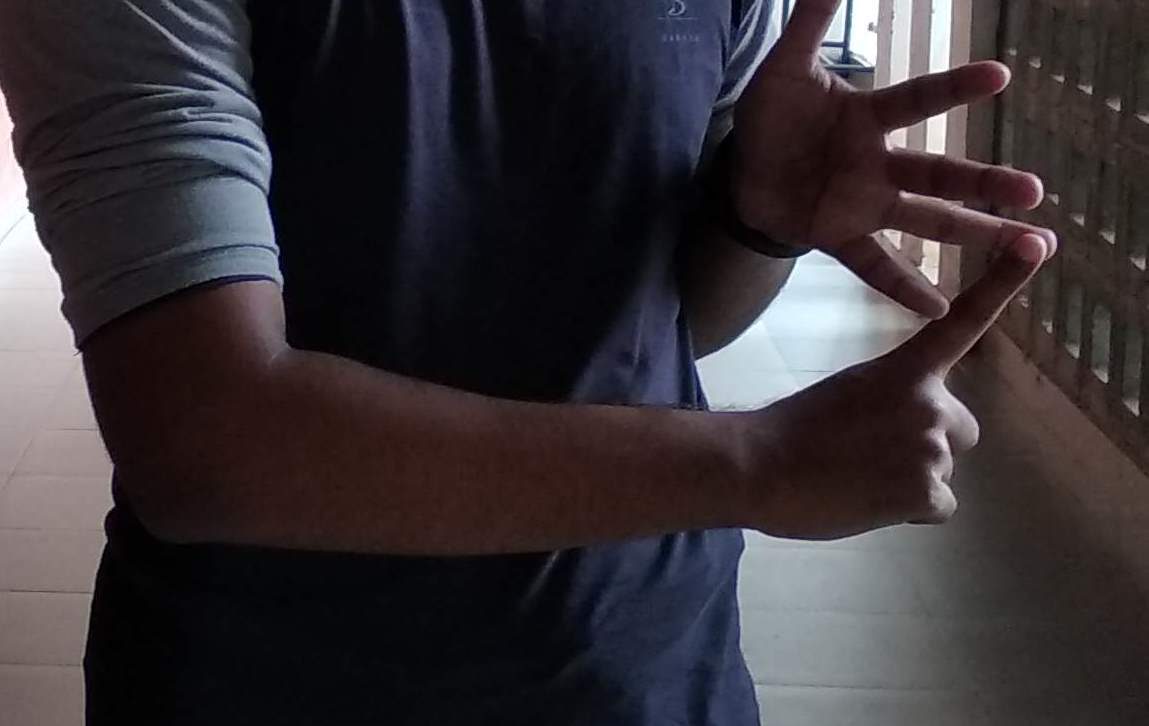e: (795, 74, 1058, 493)
